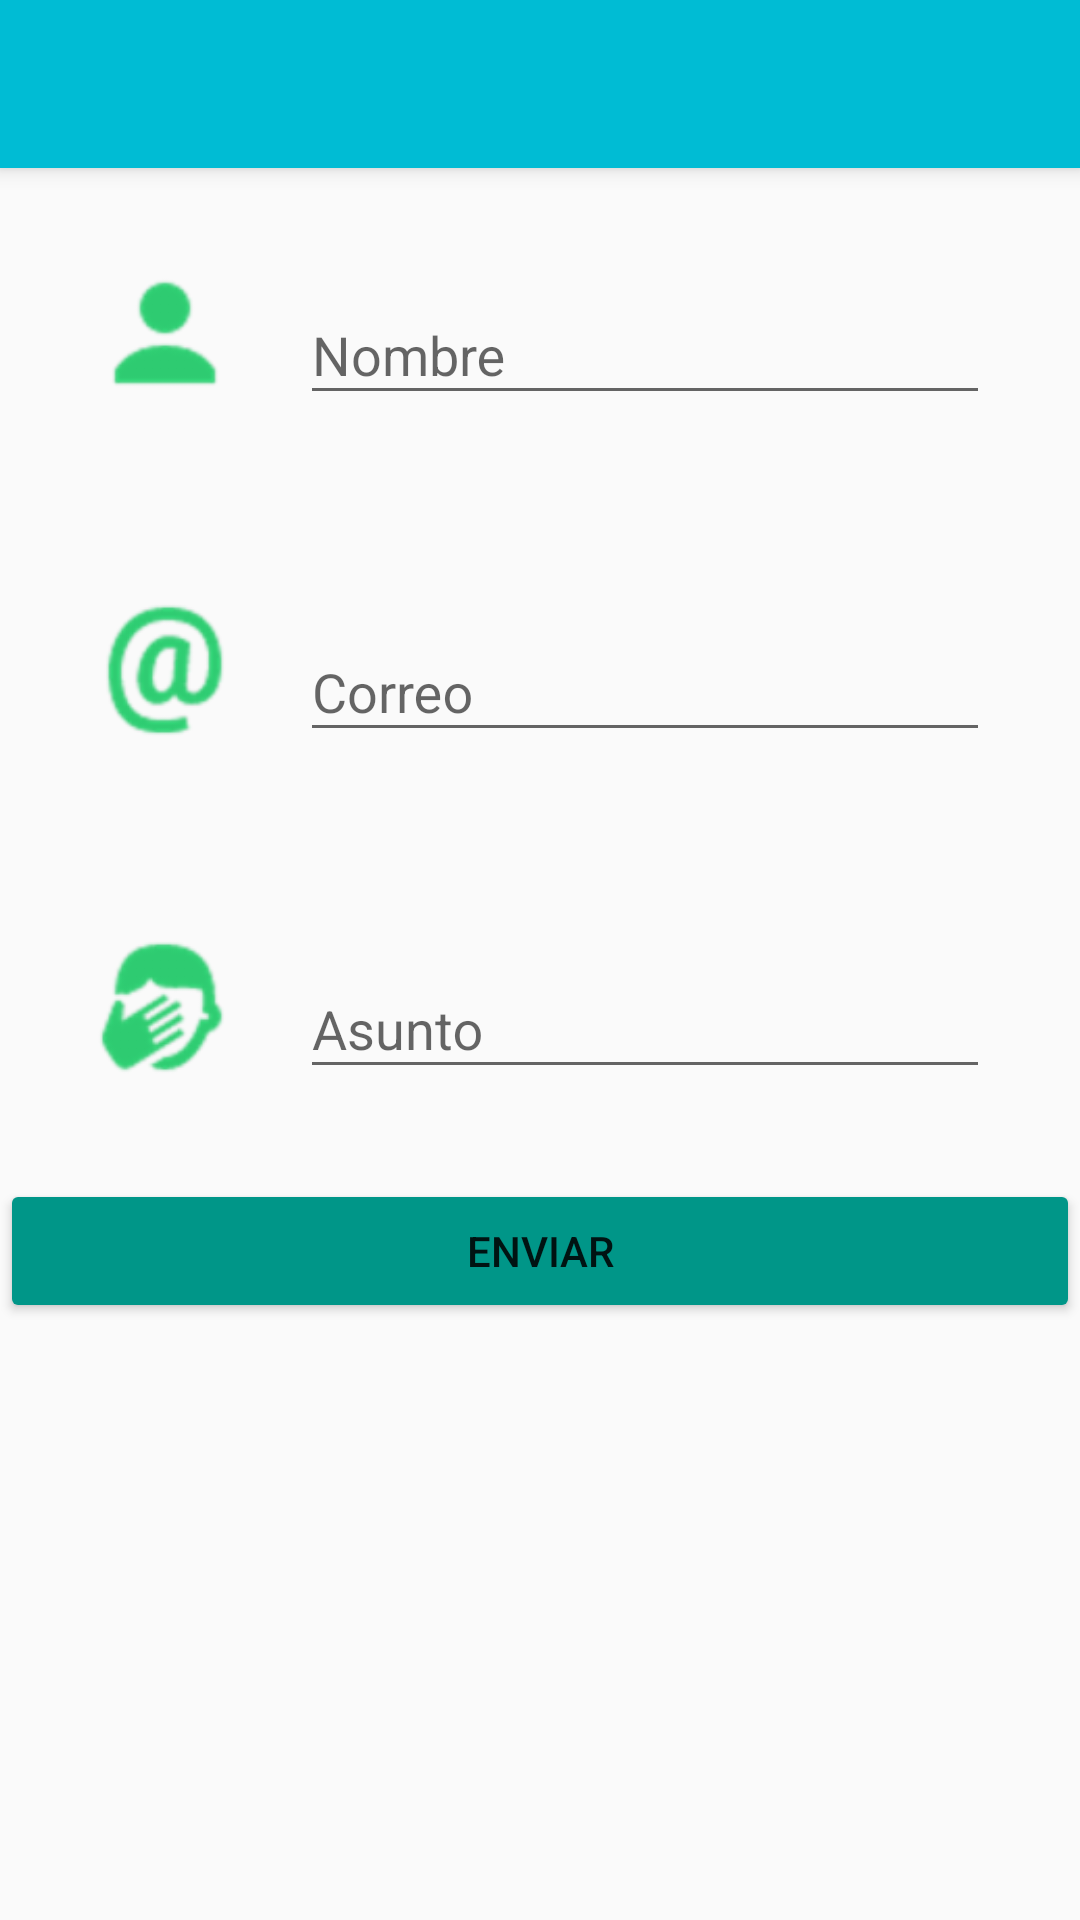

Icons on this 1080×1920 Android screen, each with its box as [left=x1, top=y1, right=x2, bottom=y2]:
email: [left=107, top=606, right=223, bottom=734]
user: [left=113, top=281, right=217, bottom=385]
